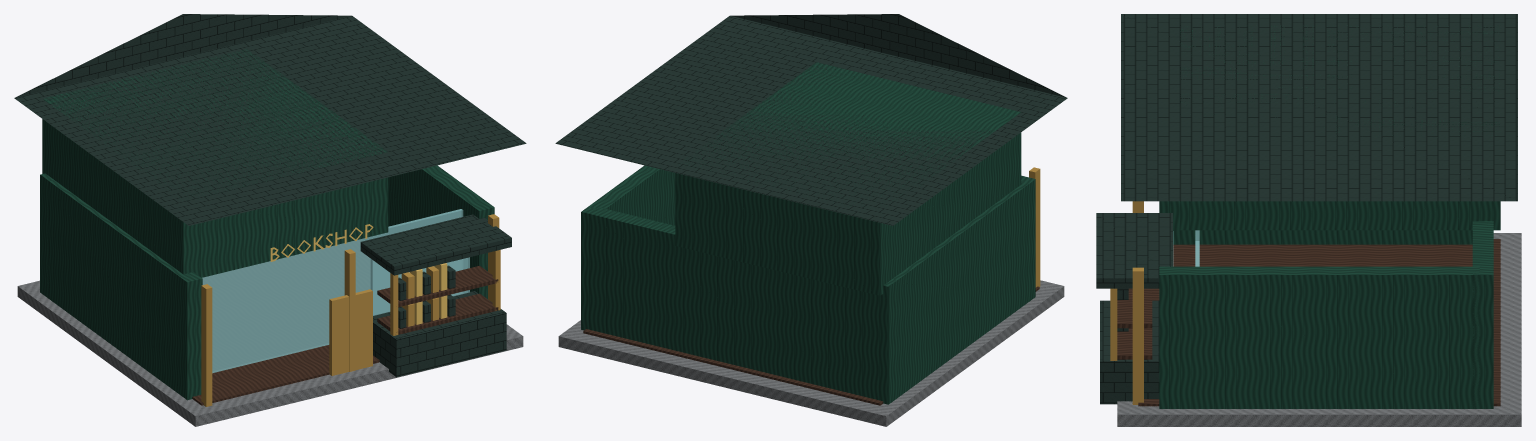
The model's file is library.glb.
3 views of the same model, side by side, from view 1: azimuth 30°, elevation 25°; view 2: azimuth 150°, elevation 25°; view 3: azimuth 270°, elevation 25° (orthographic). The views are drawn at different scales.
Parts seen in each view (by area): view 1: gable_roof, upper_storey, side_wall, window_back, foundation, bay_base, bay_cap, side_wall.001, floor, door, front_post, bay_shelf.001 (+7 smaller); view 2: gable_roof, upper_storey, rear_wall, side_wall, foundation, side_wall.001, floor, front_post; view 3: gable_roof, side_wall.001, foundation, upper_storey, floor, bay_cap, side_wall, rear_wall, bay_base, front_post.002, bay_shelf.001, bay_shelf (+1 smaller).
Part boxes in pixels (box(x1,y1,x2,y2)): gable_roof: box(14, 14, 526, 225); upper_storey: box(42, 49, 388, 277); side_wall: box(46, 180, 202, 400); window_back: box(202, 209, 463, 373); foundation: box(17, 280, 523, 426); bay_base: box(373, 291, 506, 377); bay_cap: box(360, 214, 511, 275); side_wall.001: box(388, 165, 494, 298); floor: box(192, 345, 379, 405); door: box(329, 289, 372, 375); front_post: box(201, 284, 212, 406); bay_shelf.001: box(377, 265, 498, 307); gable_roof: box(555, 14, 1067, 225); upper_storey: box(675, 62, 1021, 295); rear_wall: box(581, 206, 897, 404); side_wall: box(893, 175, 1035, 399); foundation: box(558, 280, 1064, 426); side_wall.001: box(587, 165, 675, 225); floor: box(583, 286, 1039, 405); front_post: box(1029, 167, 1040, 287); gable_roof: box(1121, 14, 1517, 201); side_wall.001: box(1159, 266, 1479, 408); foundation: box(1117, 233, 1521, 426); upper_storey: box(1180, 25, 1500, 230); floor: box(1138, 239, 1500, 406); bay_cap: box(1096, 213, 1172, 288); side_wall: box(1159, 201, 1472, 244); rear_wall: box(1472, 221, 1493, 408); bay_base: box(1100, 300, 1159, 404); front_post.002: box(1132, 267, 1143, 404); bay_shelf.001: box(1117, 288, 1152, 328); bay_shelf: box(1117, 328, 1152, 359).
Bounding box in the file's own units: 6.6 × 4.55 × 6.33.
Materials: 8 (5 with a texture image).
